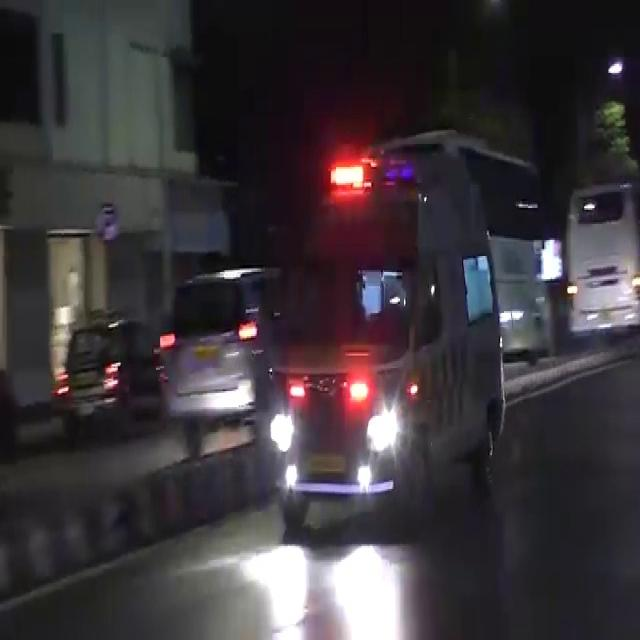ambulance: (268, 168, 526, 487)
